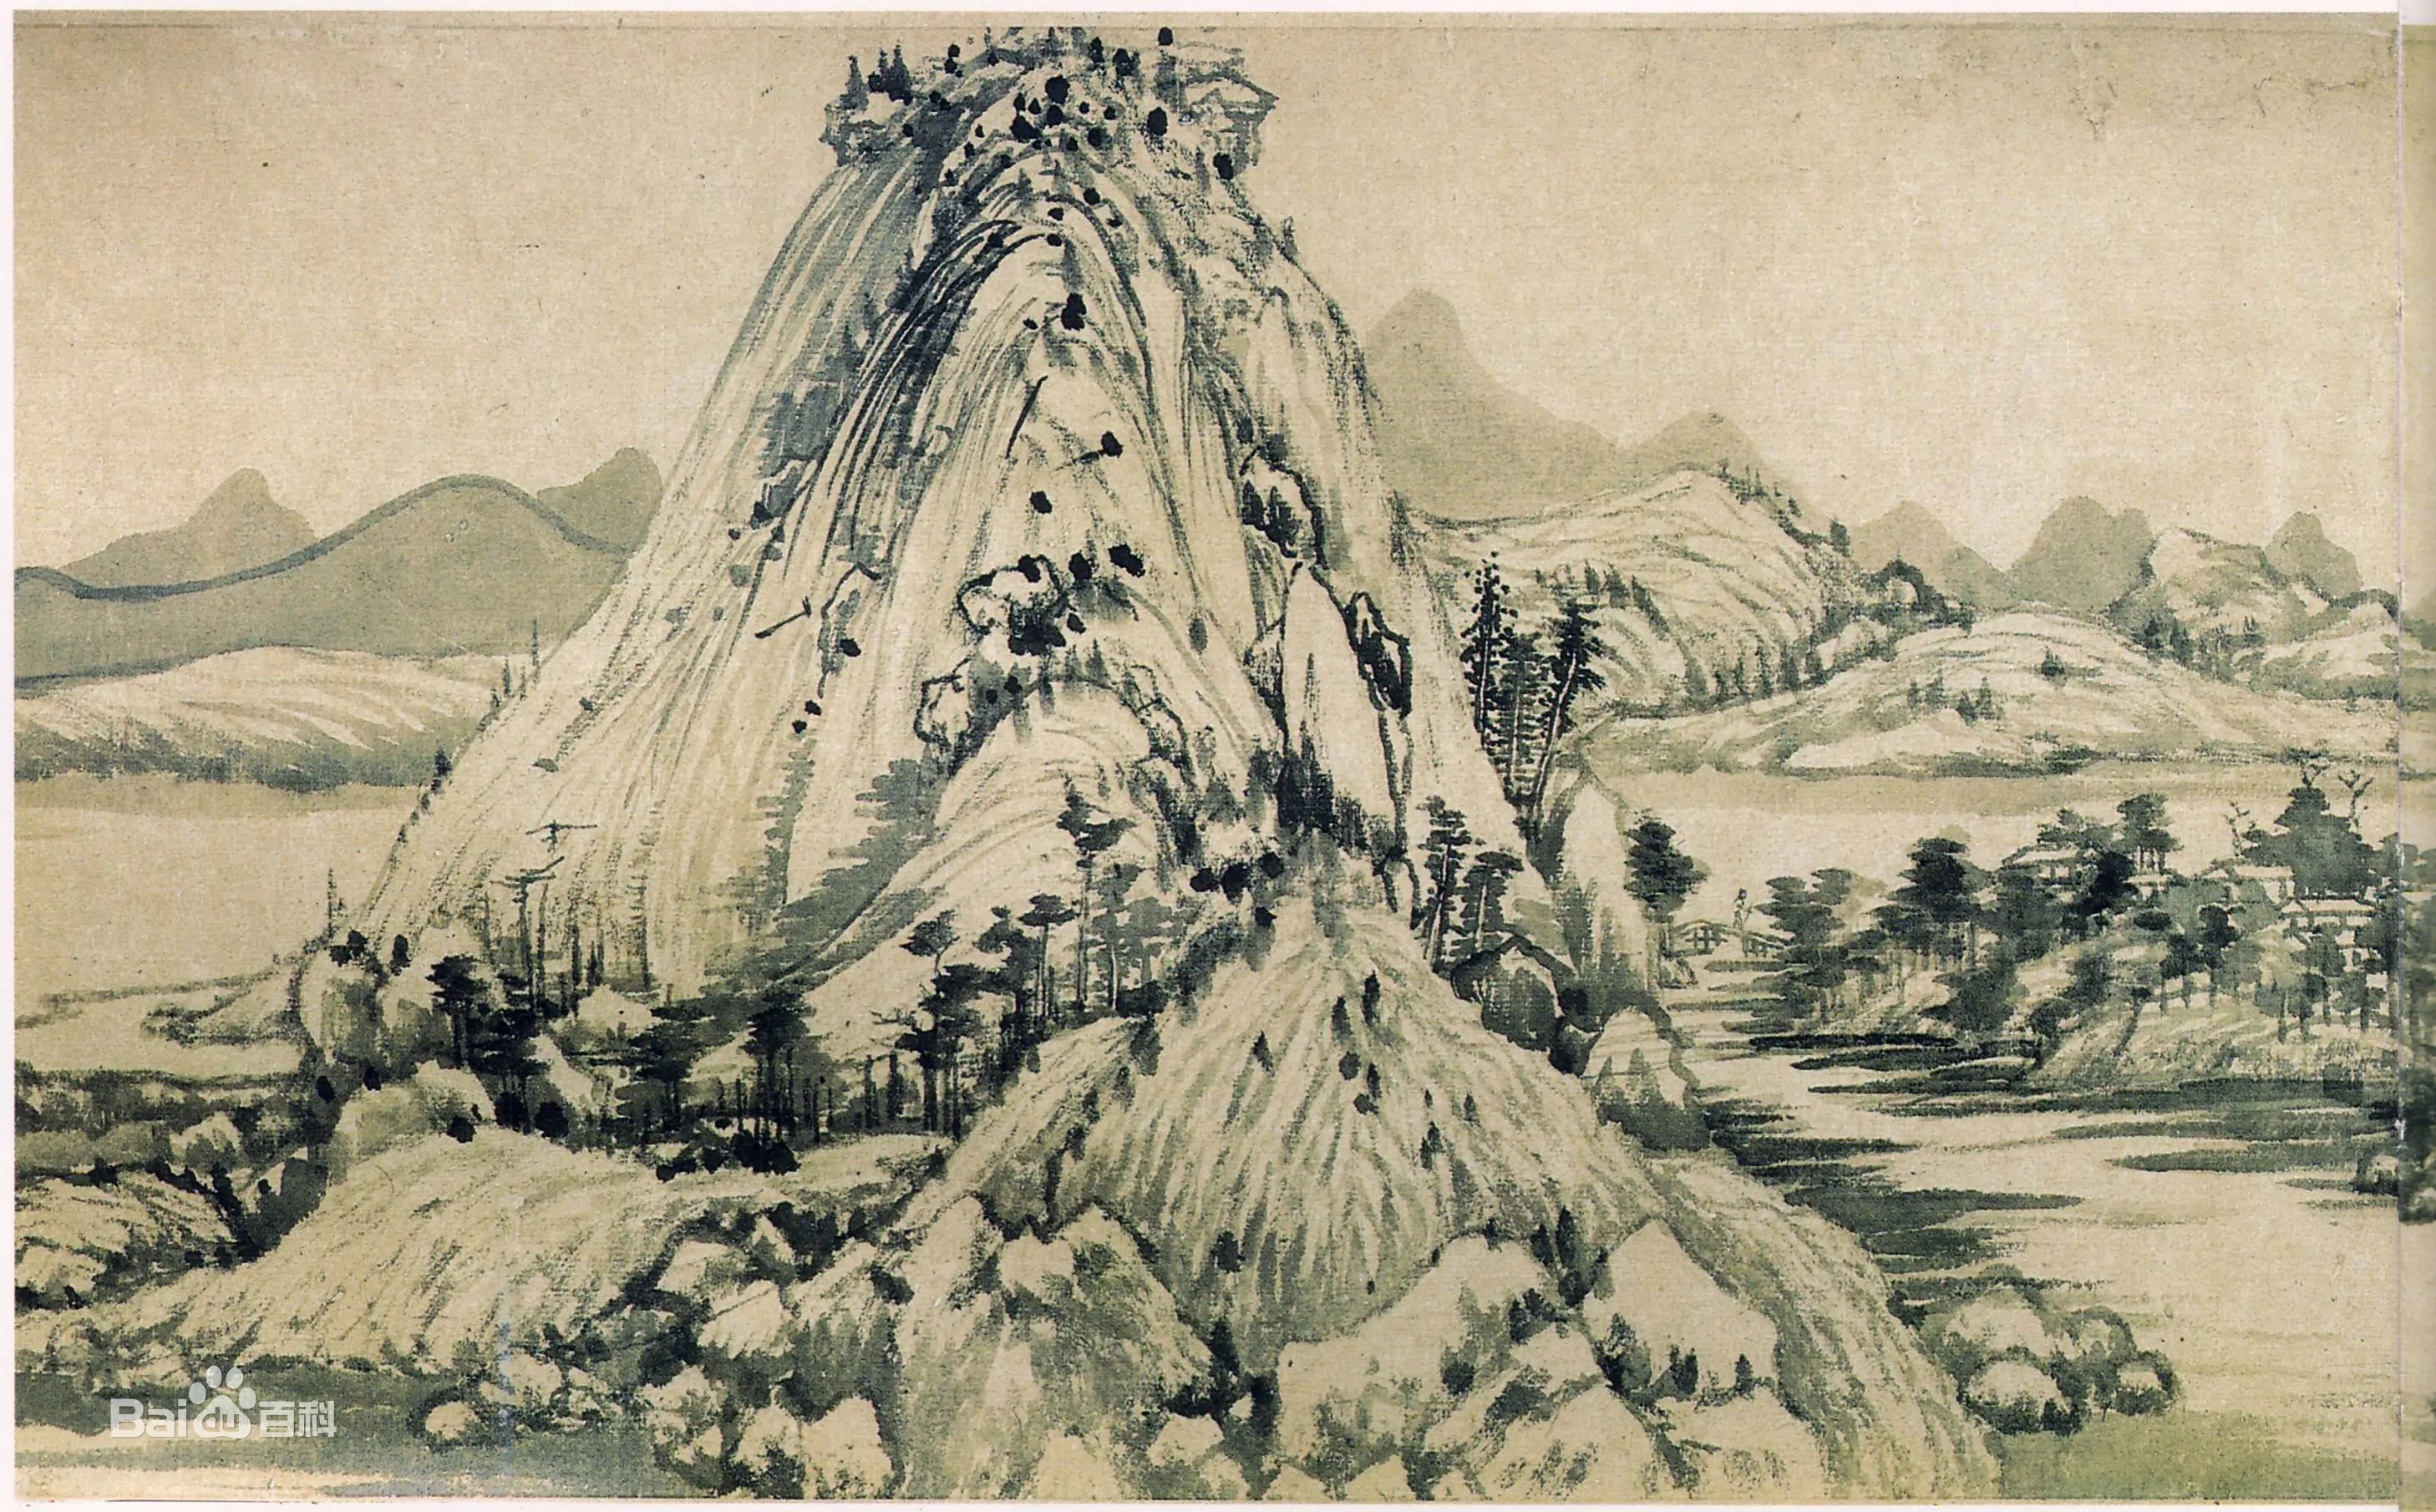bridge: (1666, 871, 1804, 979)
house: (2204, 836, 2372, 972), (2015, 827, 2171, 892)
mountain: (500, 23, 1572, 880)
range: (780, 14, 1449, 1310), (1379, 282, 2434, 604), (63, 429, 637, 651)
rock: (1908, 1244, 2154, 1458)
tree: (1463, 542, 1618, 833), (411, 939, 568, 1160), (613, 1005, 737, 1191), (1882, 824, 1982, 1002), (904, 955, 980, 1167), (1423, 805, 1508, 993), (986, 888, 1069, 1059)
